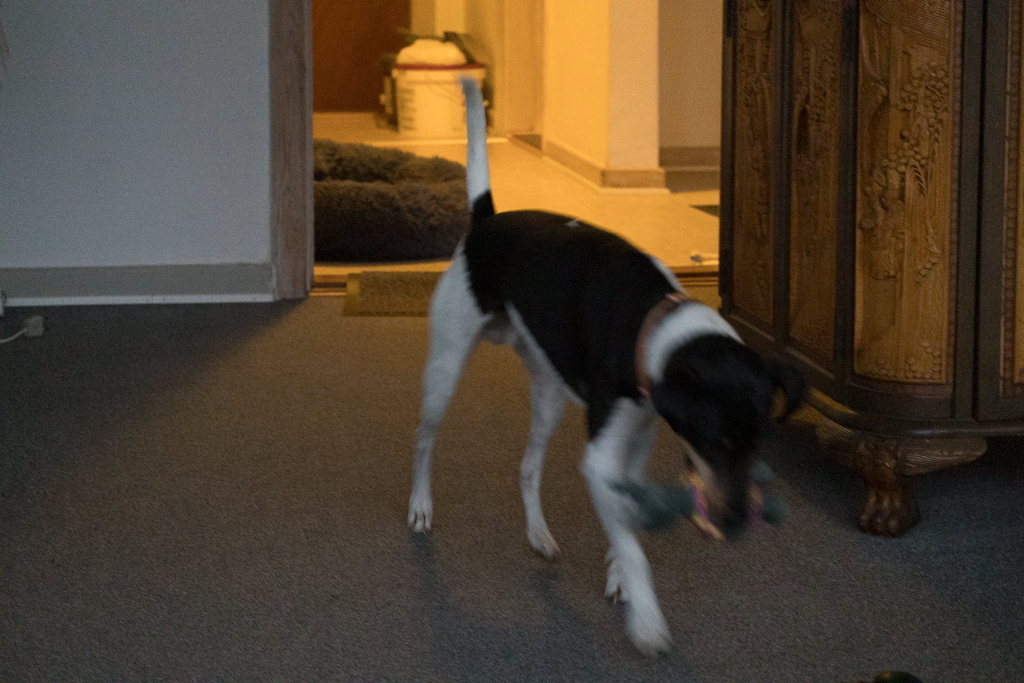Dog: (372, 58, 821, 670)
Humanoid: (598, 443, 806, 546)
